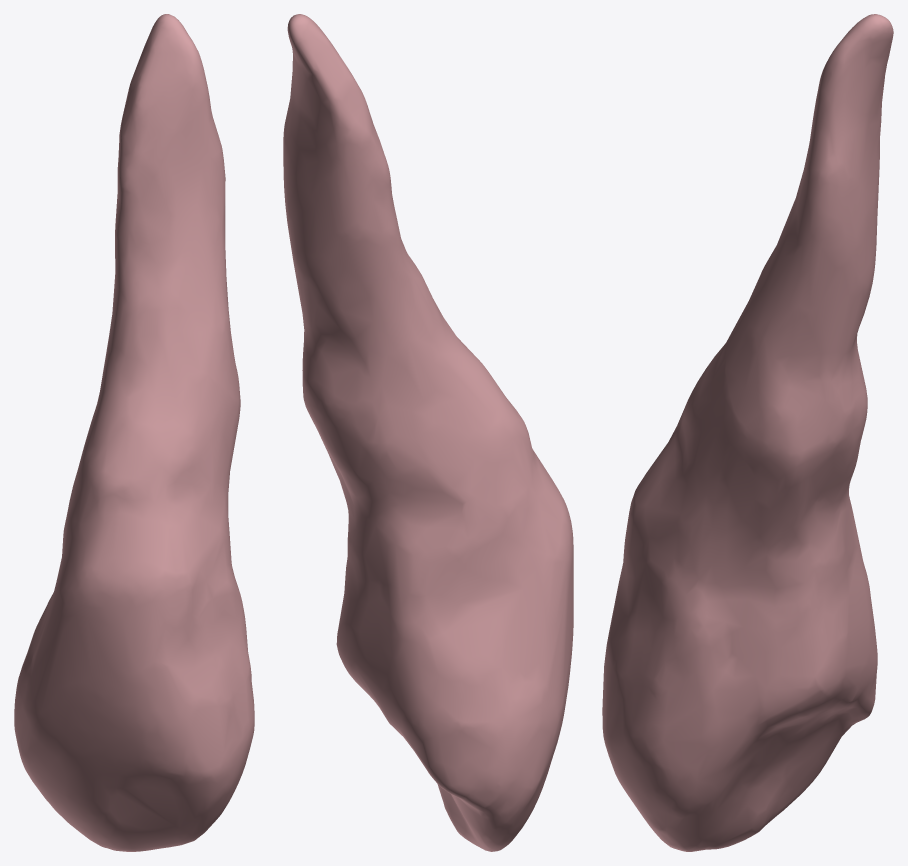
The model's file is fma55798.glb.
The picture shows the model from 3 angles, left to right: view 1: azimuth 30°, elevation 25°; view 2: azimuth 150°, elevation 25°; view 3: azimuth 270°, elevation 25°; orthographic projection. The views are drawn at different scales.
Visible parts, largest first — view 1: FMA55798; view 2: FMA55798; view 3: FMA55798.
Part boxes in pixels (left/top/right/bottom): FMA55798: left=14, top=14, right=254, bottom=851; FMA55798: left=283, top=14, right=573, bottom=851; FMA55798: left=602, top=14, right=893, bottom=851.
Bounding box in the file's own units: 0.00878 × 0.0296 × 0.00882.
